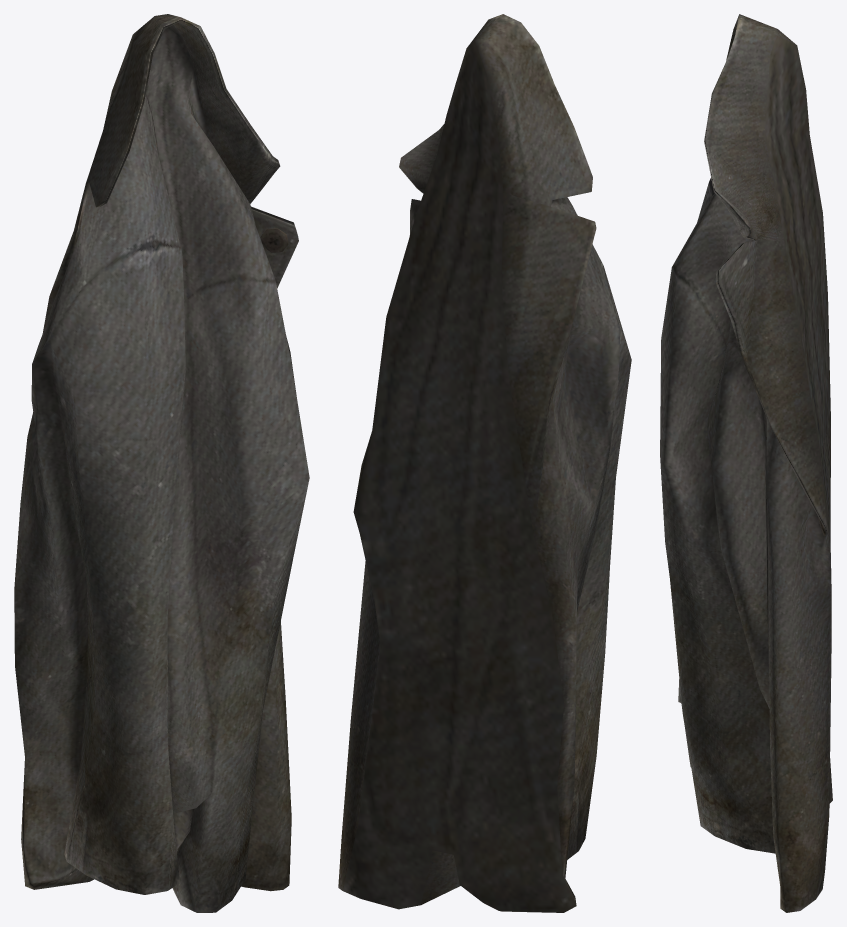
Rendered from 021_Coat.fbx.
3 views of the same model, side by side, from view 1: azimuth 30°, elevation 25°; view 2: azimuth 150°, elevation 25°; view 3: azimuth 270°, elevation 25° (orthographic). The views are drawn at different scales.
Parts seen in each view (by area): view 1: LOD_1_Group_0_Sub_1__sm32_021_Coat01A_A_Mat; view 2: LOD_1_Group_0_Sub_1__sm32_021_Coat01A_A_Mat; view 3: LOD_1_Group_0_Sub_1__sm32_021_Coat01A_A_Mat.
Part boxes in pixels (bbox=[...]): LOD_1_Group_0_Sub_1__sm32_021_Coat01A_A_Mat: bbox=[14, 14, 309, 912]; LOD_1_Group_0_Sub_1__sm32_021_Coat01A_A_Mat: bbox=[338, 14, 631, 912]; LOD_1_Group_0_Sub_1__sm32_021_Coat01A_A_Mat: bbox=[660, 14, 832, 912].
Size of the model in its own units: 0.3541 by 1.14 by 0.215.
